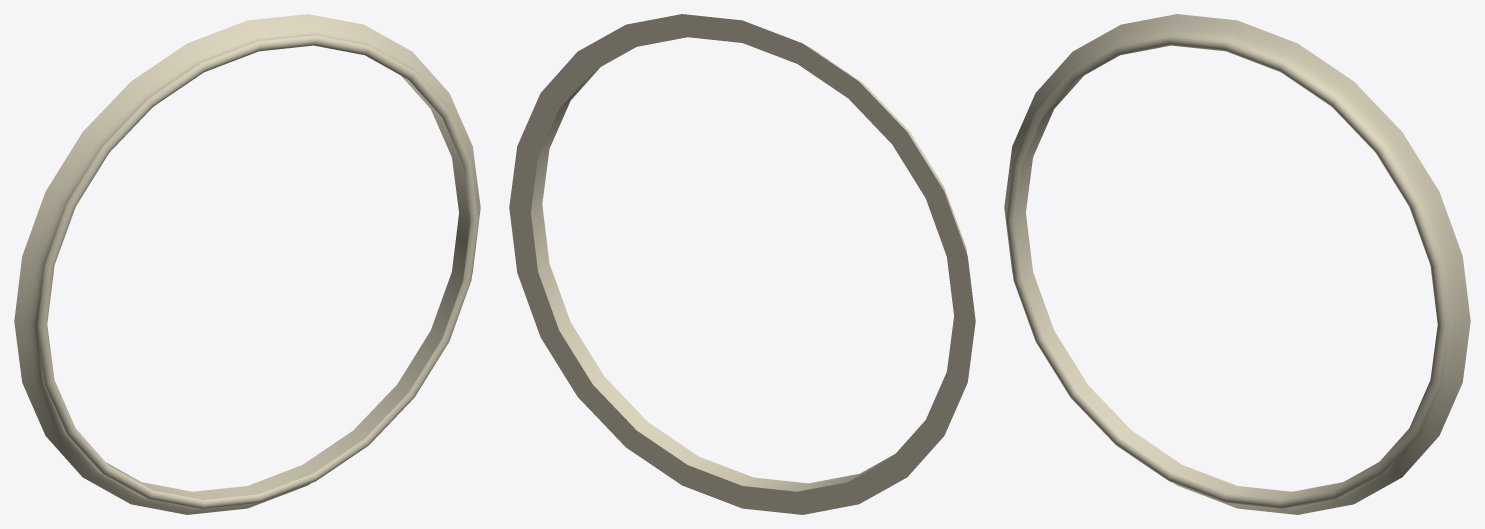
Rendered from original-33.obj.
3 renders of one model, left to right at view 1: azimuth 30°, elevation 25°; view 2: azimuth 150°, elevation 25°; view 3: azimuth 330°, elevation 25°, orthographic.
Parts seen in each view (by area): view 1: Group34/mesh17/mesh17-geometry#mesh17-geometry; view 2: Group34/mesh17/mesh17-geometry#mesh17-geometry; view 3: Group34/mesh17/mesh17-geometry#mesh17-geometry.
Boxes of the visible parts, bbox=[...] form: Group34/mesh17/mesh17-geometry#mesh17-geometry: bbox=[14, 14, 480, 514]; Group34/mesh17/mesh17-geometry#mesh17-geometry: bbox=[509, 14, 975, 514]; Group34/mesh17/mesh17-geometry#mesh17-geometry: bbox=[1004, 14, 1470, 514].
Bounding box in the file's own units: 0.4305 × 0.4305 × 0.0201.
